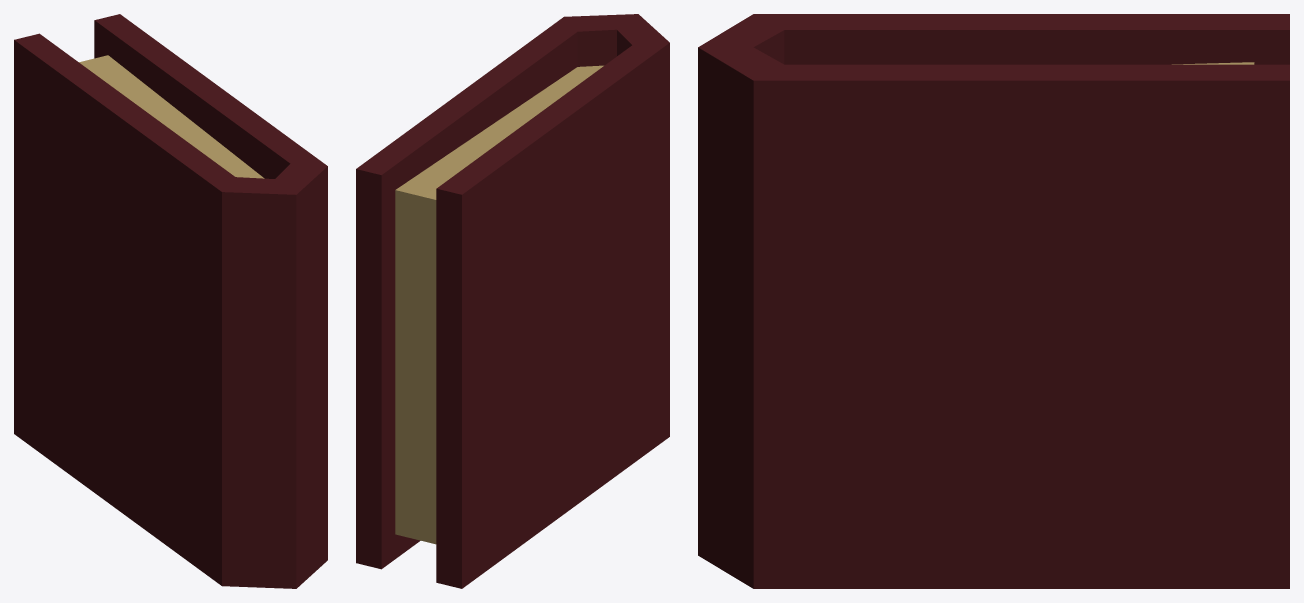
The model's file is book_closed.glb.
3 views of the same model, side by side, from view 1: azimuth 30°, elevation 25°; view 2: azimuth 150°, elevation 25°; view 3: azimuth 270°, elevation 25° (orthographic). The views are drawn at different scales.
Visible parts, largest first — view 1: Cube; view 2: Cube; view 3: Cube.
Boxes of the visible parts, x1=… form: Cube: x1=14, y1=14, x2=327, y2=588; Cube: x1=356, y1=14, x2=669, y2=588; Cube: x1=698, y1=14, x2=1289, y2=588.
Size of the model in its own units: 0.1882 by 0.6689 by 0.7057.
